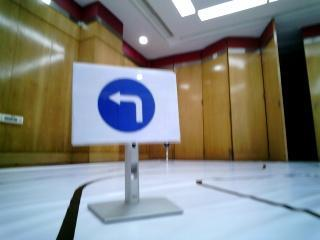left: (81, 68, 177, 140)
